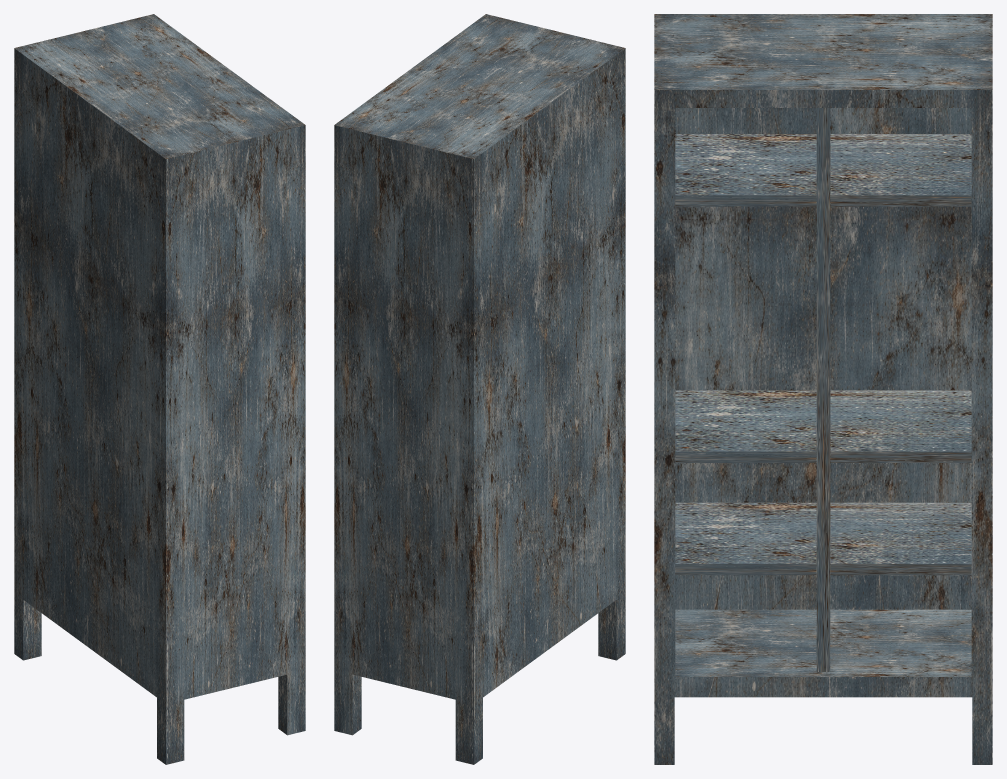
File: locker.glb
The picture shows the model from 3 angles, left to right: view 1: azimuth 30°, elevation 25°; view 2: azimuth 150°, elevation 25°; view 3: azimuth 270°, elevation 25°; orthographic projection. The views are drawn at different scales.
Parts seen in each view (by area): view 1: Cube; view 2: Cube; view 3: Cube, Cube.003, Cube.002, Cube.004, Cube.001.
Boxes of the visible parts, x1,y1,x2,y2 form: Cube: [14, 14, 305, 764]; Cube: [334, 14, 625, 764]; Cube: [654, 14, 992, 764]; Cube.003: [675, 502, 971, 575]; Cube.002: [675, 134, 971, 206]; Cube.004: [675, 390, 971, 462]; Cube.001: [816, 108, 830, 671].
Bounding box in the file's own units: 2 × 8.28 × 3.76.
1 material, 1 textured.
